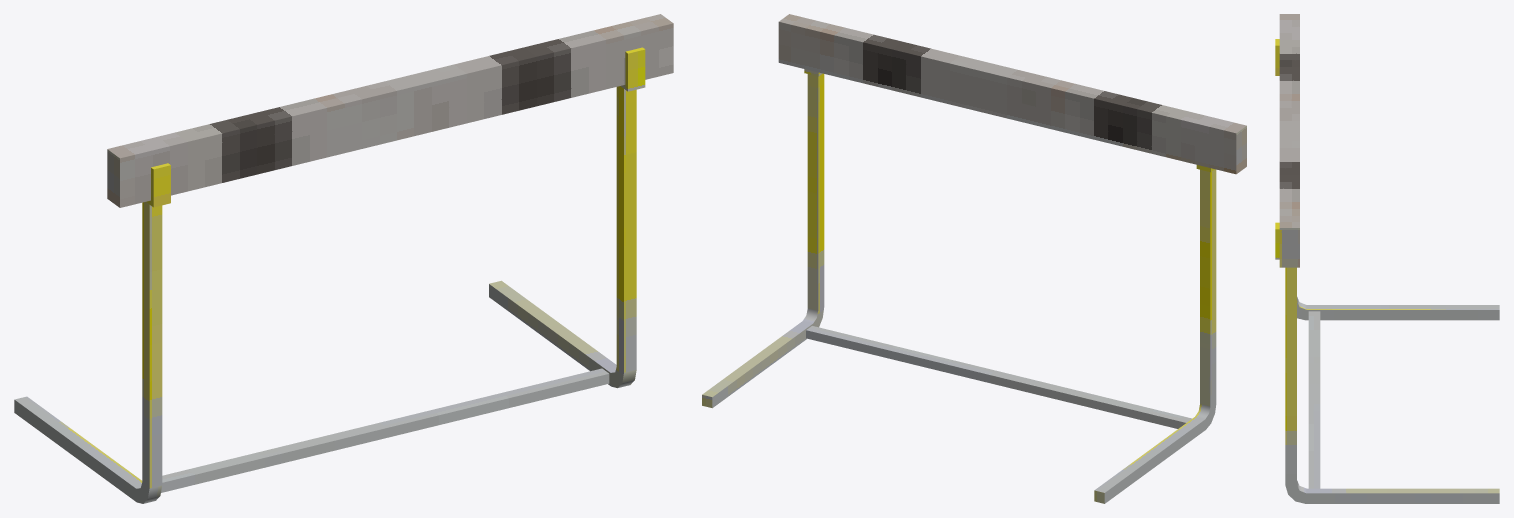
Rendered from objects_un_base_hurdle01.gltf.
3 views of the same model, side by side, from view 1: azimuth 30°, elevation 25°; view 2: azimuth 150°, elevation 25°; view 3: azimuth 270°, elevation 25° (orthographic). The views are drawn at different scales.
Parts seen in each view (by area): view 1: objects_un_base_hurdle01_01_mesh_shape:objects_un_base_hurdl; view 2: objects_un_base_hurdle01_01_mesh_shape:objects_un_base_hurdl; view 3: objects_un_base_hurdle01_01_mesh_shape:objects_un_base_hurdl.
Part boxes in pixels (x1,y1,x2,y2): objects_un_base_hurdle01_01_mesh_shape:objects_un_base_hurdl: [14, 14, 673, 503]; objects_un_base_hurdle01_01_mesh_shape:objects_un_base_hurdl: [702, 14, 1246, 503]; objects_un_base_hurdle01_01_mesh_shape:objects_un_base_hurdl: [1275, 14, 1499, 503].
Size of what is drawn, in the model's own units: 1.75 by 1.1 by 0.775.
Materials: 1 (1 with a texture image).
